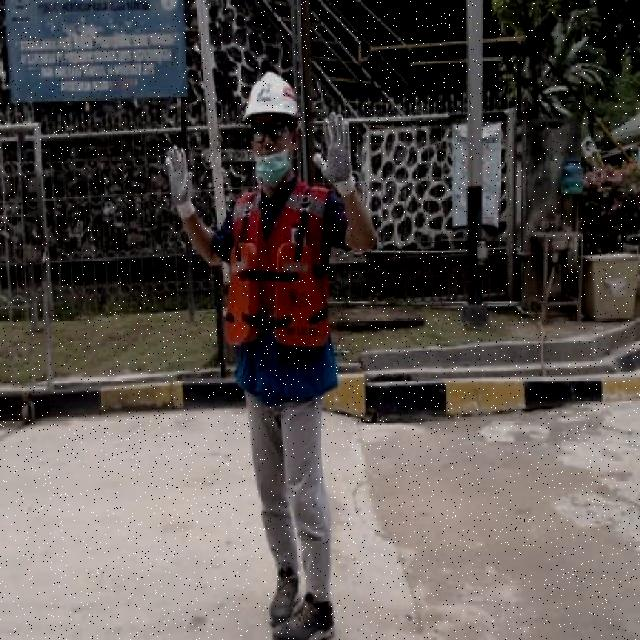Boots: (272, 592, 342, 638), (267, 566, 298, 626)
Gloves: (308, 108, 356, 196), (159, 138, 196, 224)
Helmet: (242, 72, 300, 120)
Mask: (224, 240, 328, 346)
